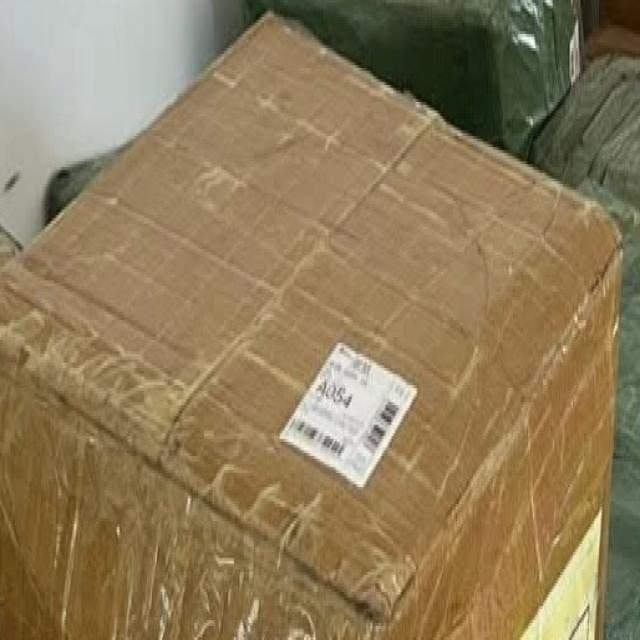carton_box: (0, 9, 640, 640)
export_mark_label: (277, 308, 423, 498)
package_damage: (264, 521, 426, 640), (590, 198, 630, 322)
